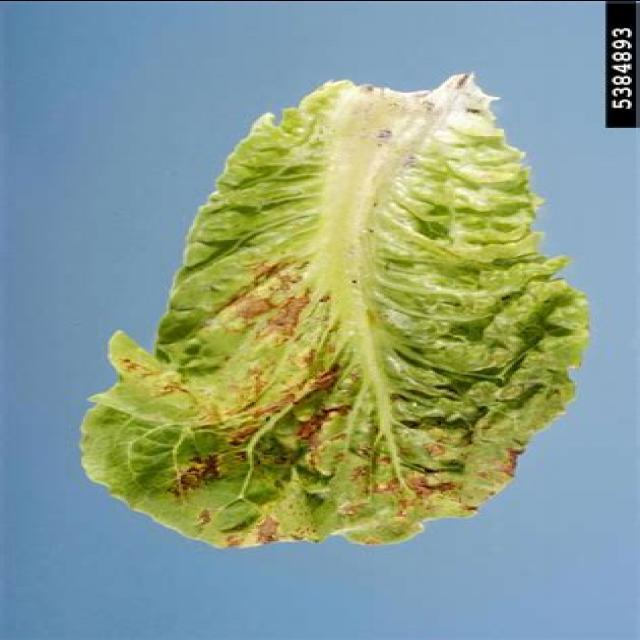Lettuce: (71, 68, 591, 544)
